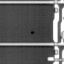dust: (30, 30, 35, 35)
